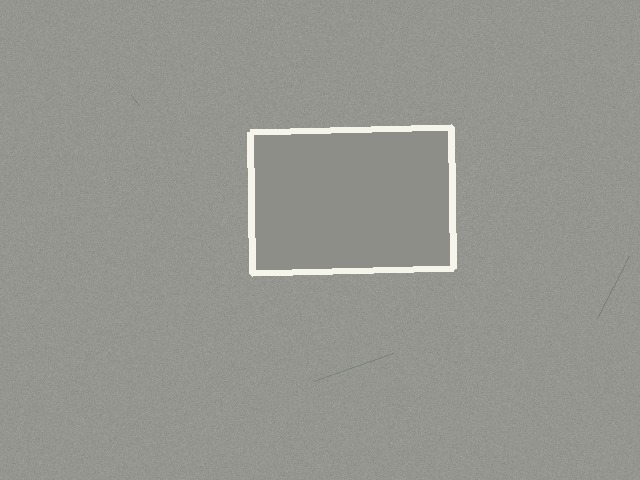parking_area: (250, 127, 453, 273)
